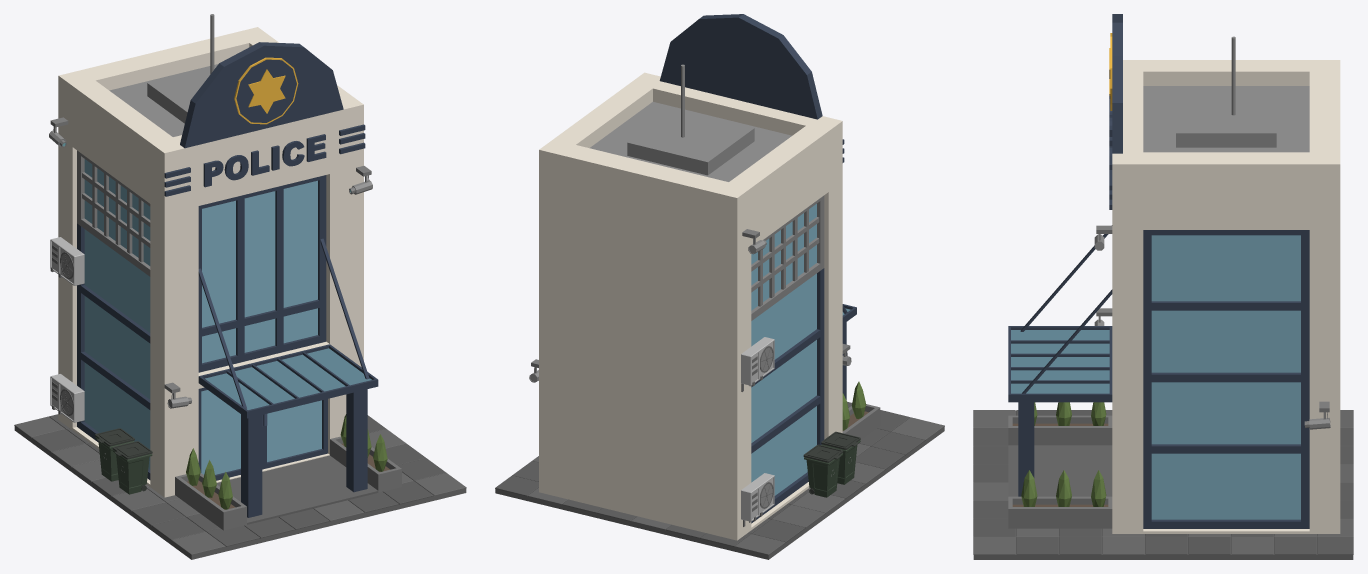
Rendered from police.glb.
3 views of the same model, side by side, from view 1: azimuth 30°, elevation 25°; view 2: azimuth 150°, elevation 25°; view 3: azimuth 270°, elevation 25° (orthographic). The views are drawn at different scales.
Visible parts, largest first — view 1: building 13_wall 001, building 13_windows 001, building 13_floor 001, building 13_entrance 001, building 13_signboard 001, building 13_doors 001, building 13_plants 001, building 13_nameboard 001, building 13_dustbin 001, building 13_air conditioner 001, building 13_cctv 001; view 2: building 13_wall 001, building 13_windows 001, building 13_floor 001, building 13_signboard 001, building 13_dustbin 001, building 13_air conditioner 001, building 13_plants 001, building 13_cctv 001; view 3: building 13_wall 001, building 13_windows 001, building 13_floor 001, building 13_entrance 001, building 13_plants 001, building 13_signboard 001, building 13_cctv 001.
Part boxes in pixels (x1,y1,x2,y2): building 13_wall 001: [58, 14, 363, 497]; building 13_windows 001: [77, 150, 326, 479]; building 13_floor 001: [14, 414, 466, 559]; building 13_entrance 001: [198, 238, 378, 517]; building 13_signboard 001: [180, 42, 343, 148]; building 13_doors 001: [198, 387, 327, 480]; building 13_plants 001: [175, 414, 401, 530]; building 13_nameboard 001: [164, 124, 365, 196]; building 13_dustbin 001: [95, 428, 152, 494]; building 13_air conditioner 001: [50, 237, 84, 422]; building 13_cctv 001: [49, 117, 372, 408]; building 13_wall 001: [539, 64, 842, 540]; building 13_windows 001: [751, 195, 824, 523]; building 13_floor 001: [495, 401, 944, 559]; building 13_signboard 001: [659, 14, 822, 119]; building 13_dustbin 001: [803, 431, 860, 497]; building 13_air conditioner 001: [741, 337, 774, 526]; building 13_plants 001: [842, 381, 880, 439]; building 13_cctv 001: [529, 229, 851, 382]; building 13_wall 001: [1112, 36, 1340, 533]; building 13_windows 001: [1143, 230, 1309, 528]; building 13_floor 001: [973, 410, 1353, 559]; building 13_entrance 001: [1008, 225, 1112, 496]; building 13_plants 001: [1008, 402, 1112, 528]; building 13_signboard 001: [1109, 14, 1122, 153]; building 13_cctv 001: [1094, 225, 1330, 429].
Size of the model in its own units: 4.48 by 6.75 by 5.
